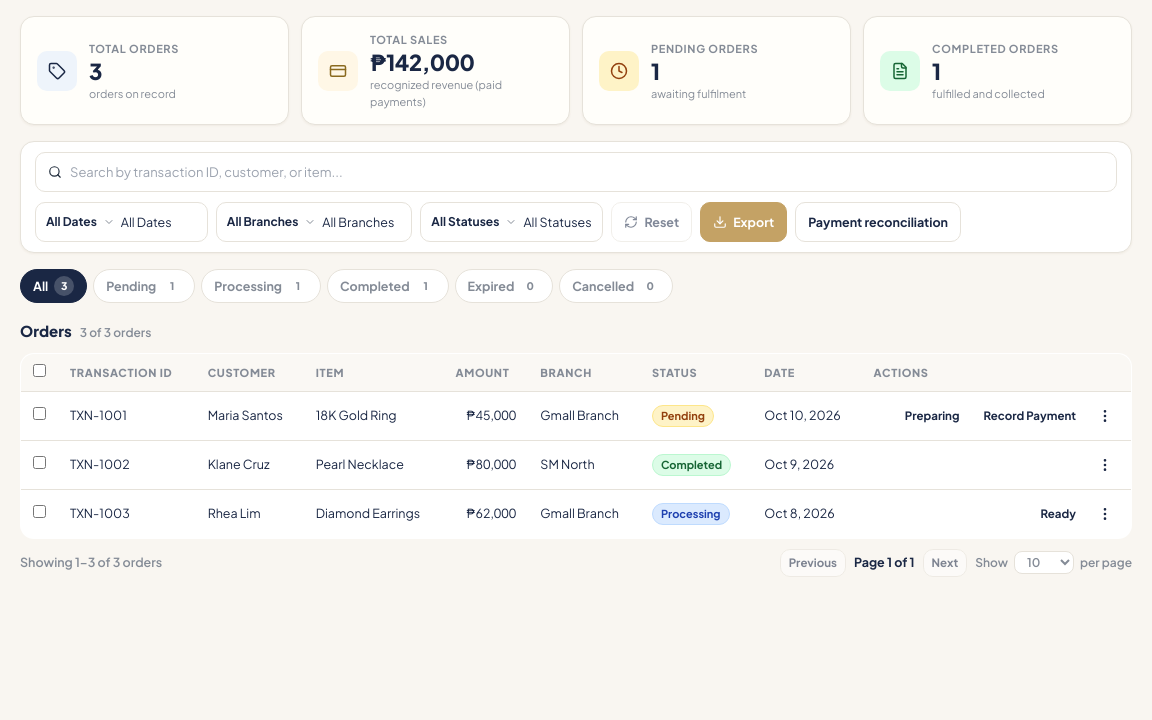
Test: Admin Orders page › status tabs filter and show real counts
The width and height of the screenshot is (1152, 720).
Check: the text "TXN-1001" is shown, box [58,392,196,440]
Check: the button "All 3" is shown, box [20,269,87,303]
Click the button "Completed 1" at [388, 286], box [327,269,449,303]
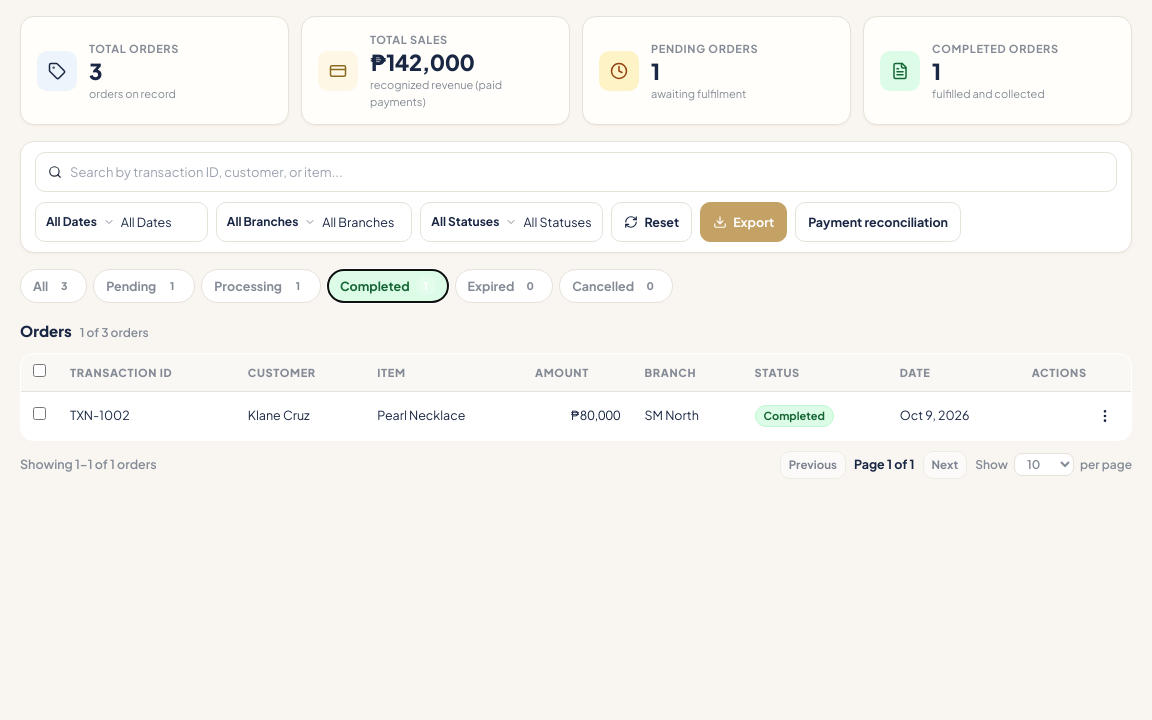
Check: the text "TXN-1002" is shown, box [58,392,236,440]
Check: the button "TXN-1001" is gone
